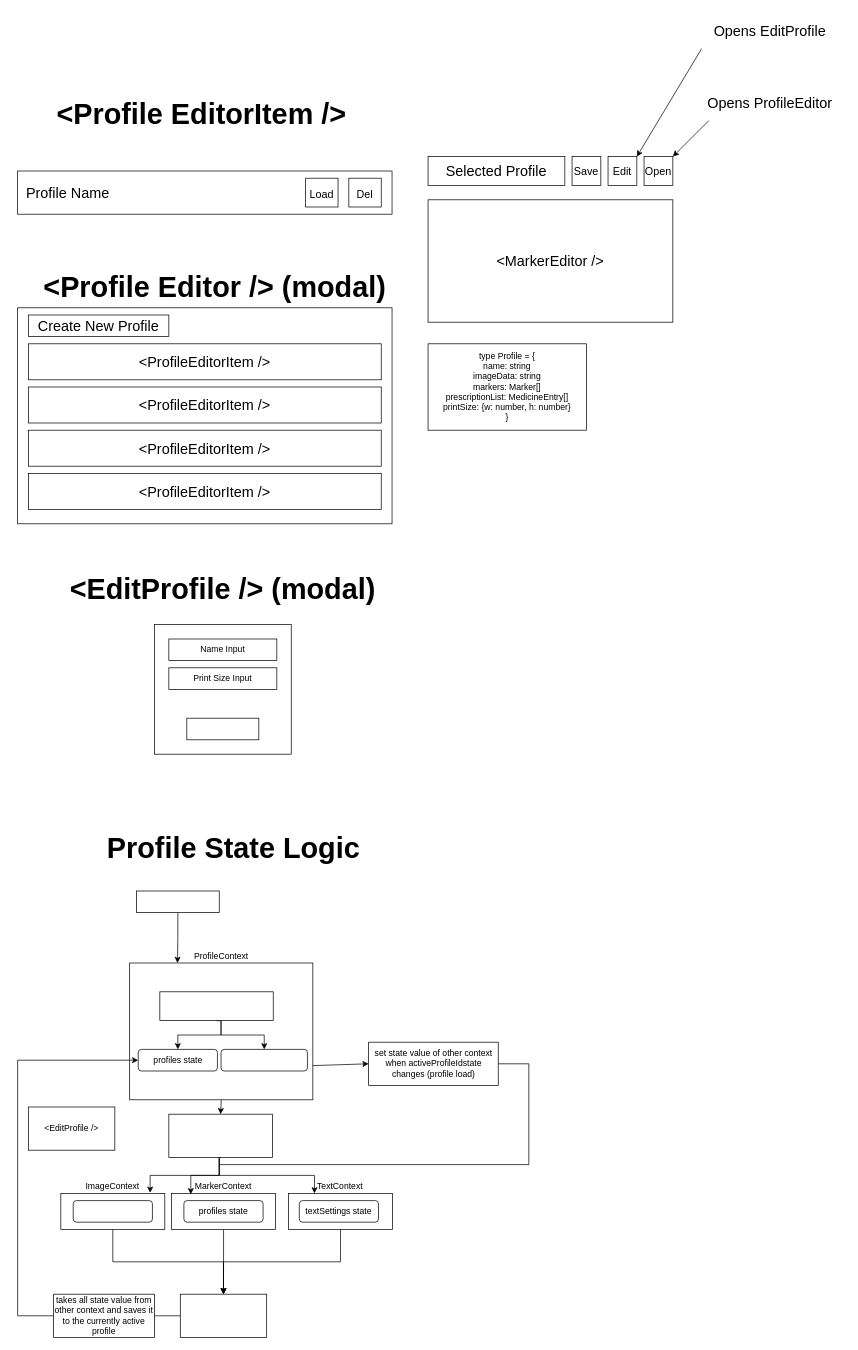
Image size: 858x1350. Some labels were removed from this diagram. Here are the shapes that lost their labels. From the top down, the centre of each, then its label:
At pixel 222 728: "Save Profile".
At pixel 177 901: "App start".
At pixel 216 1006: "fetch profile data saved in storage".
At pixel 263 1060: "activeProfileId state".
At pixel 220 1135: "initialize state value of other context from active profile".
At pixel 112 1211: "imagaData state".
At pixel 223 1315: "<SaveButton />".
